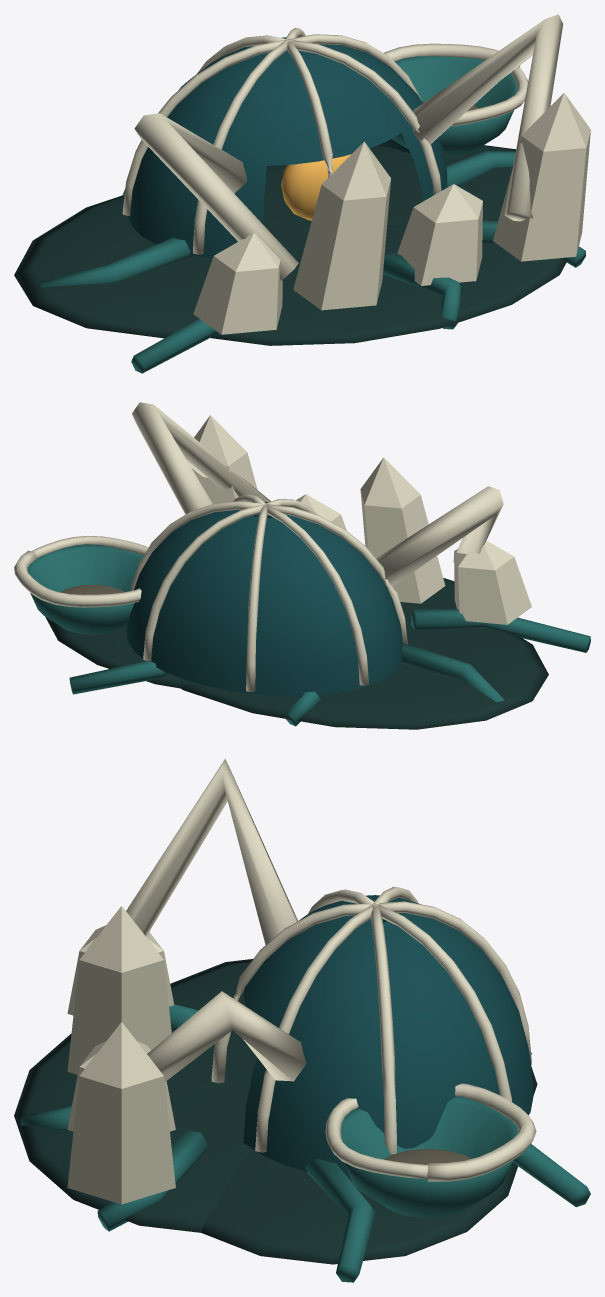
File: building_carbonate_cutter_a.obj
3 views of the same model, one above another, from view 1: azimuth 30°, elevation 25°; view 2: azimuth 150°, elevation 25°; view 3: azimuth 270°, elevation 25° (orthographic). The views are drawn at different scales.
Visible parts, largest first — view 1: inhabited_shell.022, irregular_anchoring_lobe.075, irregular_anchoring_lobe.077, cleaved_mineral.016, cleaved_mineral.018, mineral_brace.003, mineral_brace.002, cleaved_mineral.015, cleaved_mineral.017, open_living_cup.072, irregular_anchoring_lobe.076, anchoring_root.178 (+12 smaller); view 2: inhabited_shell.022, irregular_anchoring_lobe.075, open_living_cup.072, cleaved_mineral.016, mineral_brace.003, mineral_brace.002, cleaved_mineral.015, grown_cup_lip.072, anchoring_root.179, irregular_anchoring_lobe.076, cleaved_mineral.018, growth_seam.157 (+10 smaller); view 3: inhabited_shell.022, irregular_anchoring_lobe.077, irregular_anchoring_lobe.076, cleaved_mineral.018, cleaved_mineral.016, open_living_cup.072, mineral_brace.002, mineral_brace.003, grown_cup_lip.072, anchoring_root.175, growth_seam.154, irregular_anchoring_lobe.075 (+10 smaller).
Boxes of the visible parts, bbox=[...] form: inhabited_shell.022: bbox=[128, 36, 447, 258]; irregular_anchoring_lobe.075: bbox=[14, 180, 311, 338]; irregular_anchoring_lobe.077: bbox=[210, 218, 568, 345]; cleaved_mineral.016: bbox=[293, 141, 390, 310]; cleaved_mineral.018: bbox=[493, 93, 590, 261]; mineral_brace.003: bbox=[413, 14, 563, 221]; mineral_brace.002: bbox=[134, 113, 298, 280]; cleaved_mineral.015: bbox=[193, 233, 282, 334]; cleaved_mineral.017: bbox=[397, 184, 482, 285]; open_living_cup.072: bbox=[391, 56, 517, 157]; irregular_anchoring_lobe.076: bbox=[265, 145, 515, 225]; anchoring_root.178: bbox=[40, 237, 193, 287]; inhabited_shell.022: bbox=[126, 502, 402, 696]; irregular_anchoring_lobe.075: bbox=[180, 625, 548, 729]; open_living_cup.072: bbox=[27, 544, 143, 634]; cleaved_mineral.016: bbox=[360, 457, 445, 603]; mineral_brace.003: bbox=[132, 402, 270, 514]; mineral_brace.002: bbox=[376, 486, 503, 586]; cleaved_mineral.015: bbox=[454, 540, 531, 624]; grown_cup_lip.072: bbox=[14, 535, 148, 607]; anchoring_root.179: bbox=[411, 609, 590, 652]; irregular_anchoring_lobe.076: bbox=[45, 617, 190, 688]; cleaved_mineral.018: bbox=[192, 415, 257, 503]; growth_seam.157: bbox=[264, 504, 368, 685]; inhabited_shell.022: bbox=[243, 895, 533, 1178]; irregular_anchoring_lobe.077: bbox=[14, 1031, 252, 1232]; irregular_anchoring_lobe.076: bbox=[201, 1149, 517, 1264]; cleaved_mineral.018: bbox=[67, 1022, 175, 1204]; cleaved_mineral.016: bbox=[67, 906, 171, 1074]; open_living_cup.072: bbox=[341, 1096, 518, 1217]; mineral_brace.002: bbox=[126, 759, 297, 944]; mineral_brace.003: bbox=[147, 991, 306, 1081]; grown_cup_lip.072: bbox=[325, 1083, 536, 1181]; anchoring_root.175: bbox=[304, 1158, 375, 1282]; growth_seam.154: bbox=[370, 904, 396, 1154]; irregular_anchoring_lobe.075: bbox=[170, 959, 537, 1094].
Size of the model in its own units: 3.59 by 1.32 by 2.73.
